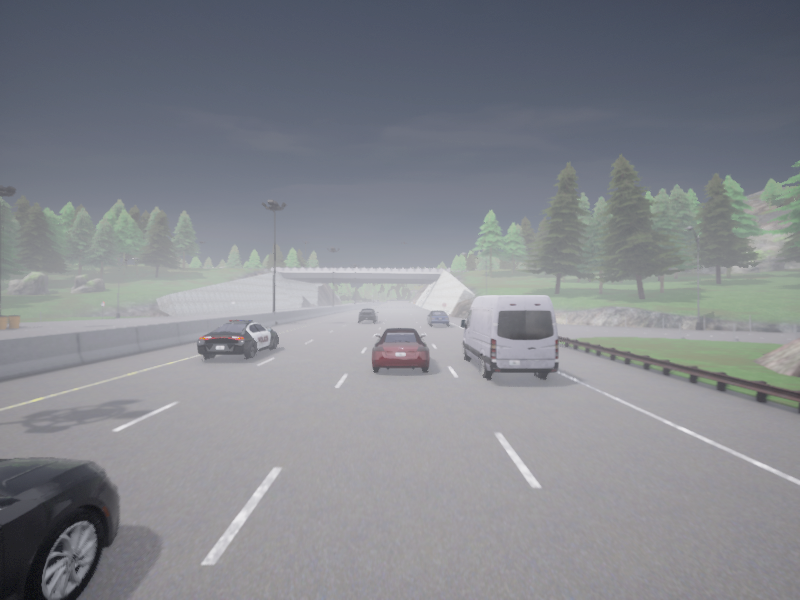vehicle: (0, 458, 118, 599), (461, 295, 558, 377), (197, 320, 277, 358), (372, 328, 428, 370), (426, 311, 448, 325), (358, 308, 378, 322)
